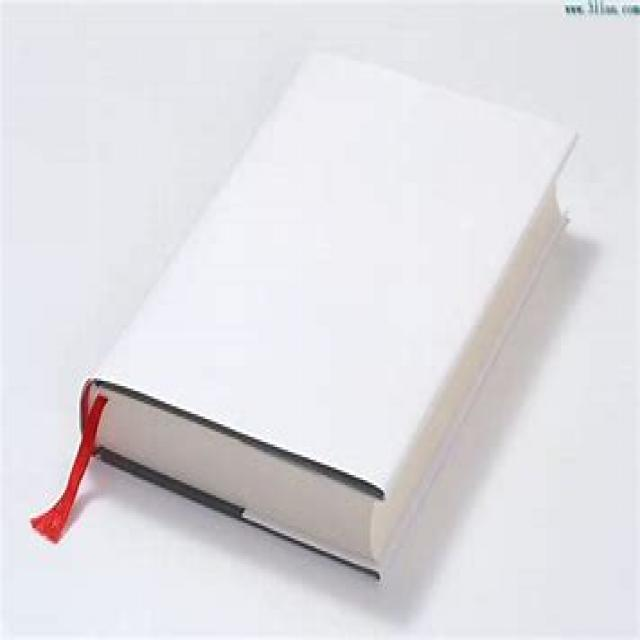pen: (26, 46, 587, 578)
